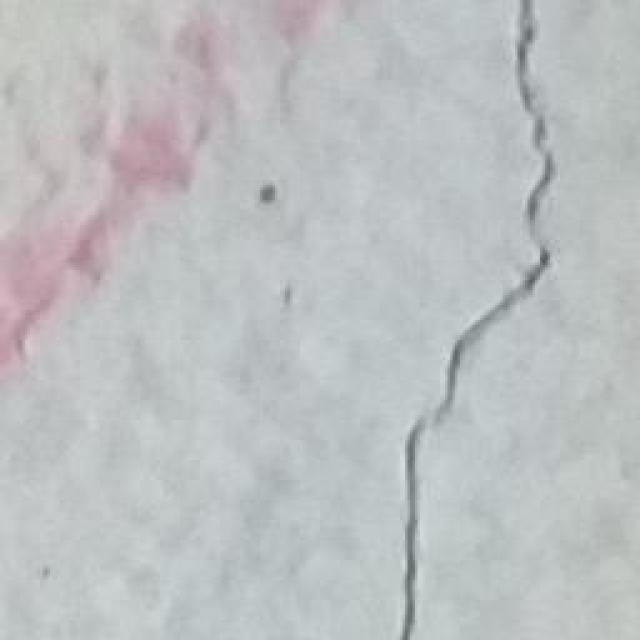Longitudinal: (380, 0, 562, 640)
